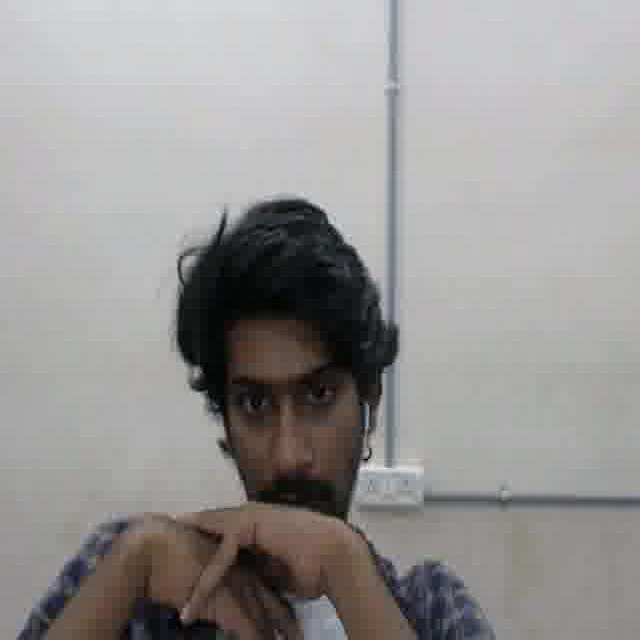Frustration: (221, 328, 357, 541)
